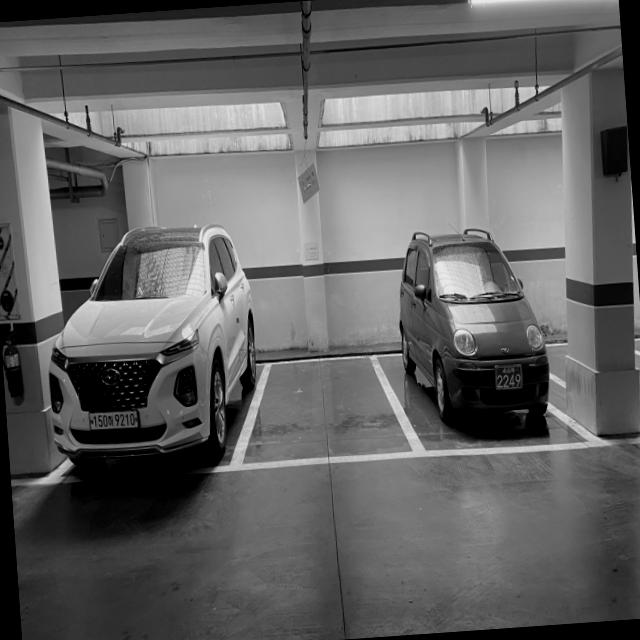car: (38, 218, 242, 467), (396, 222, 552, 435)
free: (229, 351, 427, 470)
